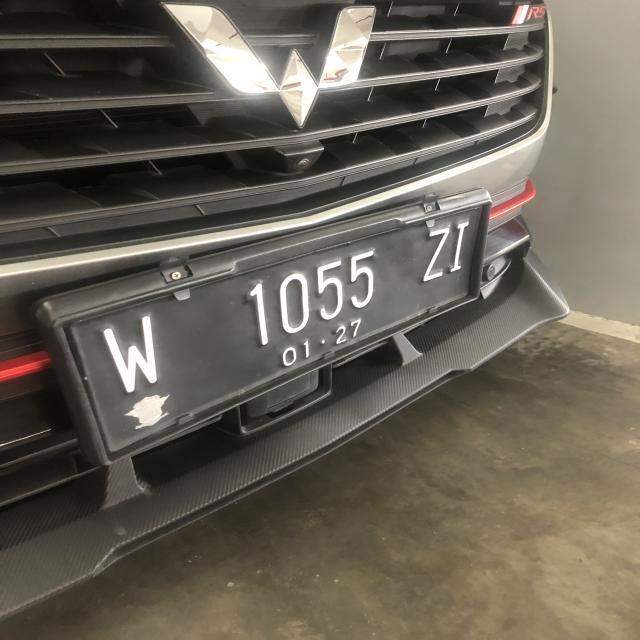0: (272, 267, 312, 336)
1: (245, 279, 277, 349)
5: (350, 246, 380, 311), (316, 256, 344, 324)
I: (452, 217, 468, 276)
W: (101, 314, 166, 398)
Z: (421, 228, 450, 286)
